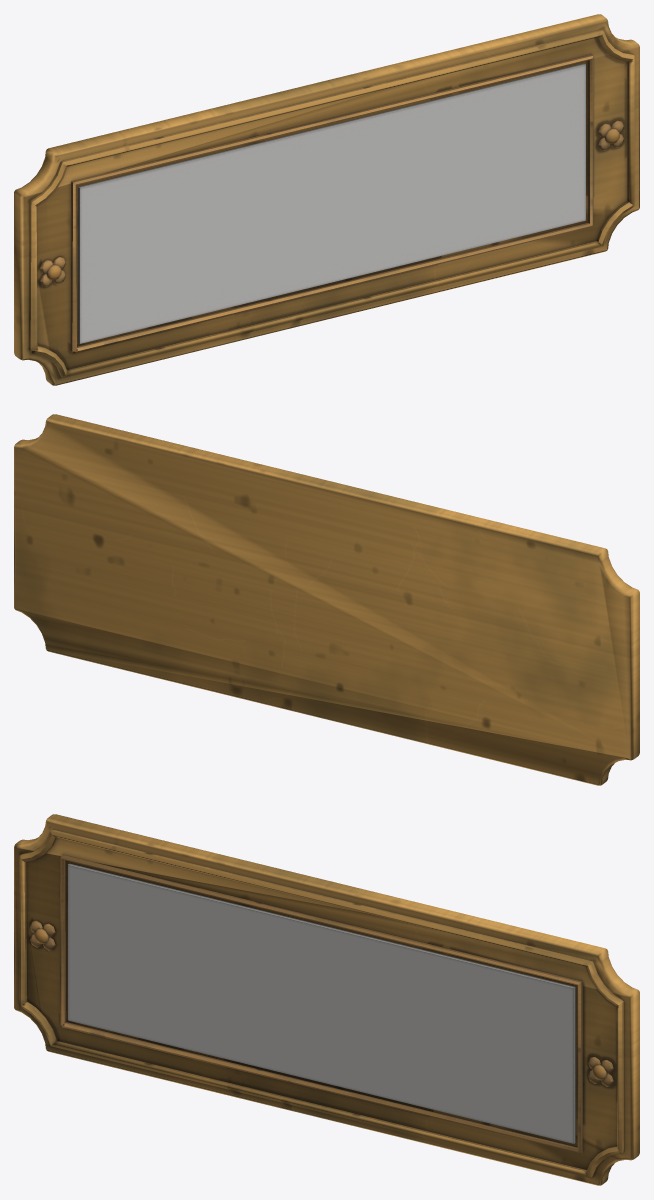
File: BrassPlaque.fbx
3 views of the same model, one above another, from view 1: azimuth 30°, elevation 25°; view 2: azimuth 150°, elevation 25°; view 3: azimuth 330°, elevation 25° (orthographic).
Parts seen in each view (by area): view 1: BrassPlaque_Field, BrassPlaque_Main; view 2: BrassPlaque_Main; view 3: BrassPlaque_Field, BrassPlaque_Main.
Part boxes in pixels (left/top/right/bottom): BrassPlaque_Field: left=78, top=63, right=585, bottom=343; BrassPlaque_Main: left=14, top=14, right=639, bottom=385; BrassPlaque_Main: left=14, top=414, right=639, bottom=785; BrassPlaque_Field: left=68, top=863, right=575, bottom=1143; BrassPlaque_Main: left=14, top=814, right=639, bottom=1185.
Size of the model in its own units: 250 by 90 by 8.91.
